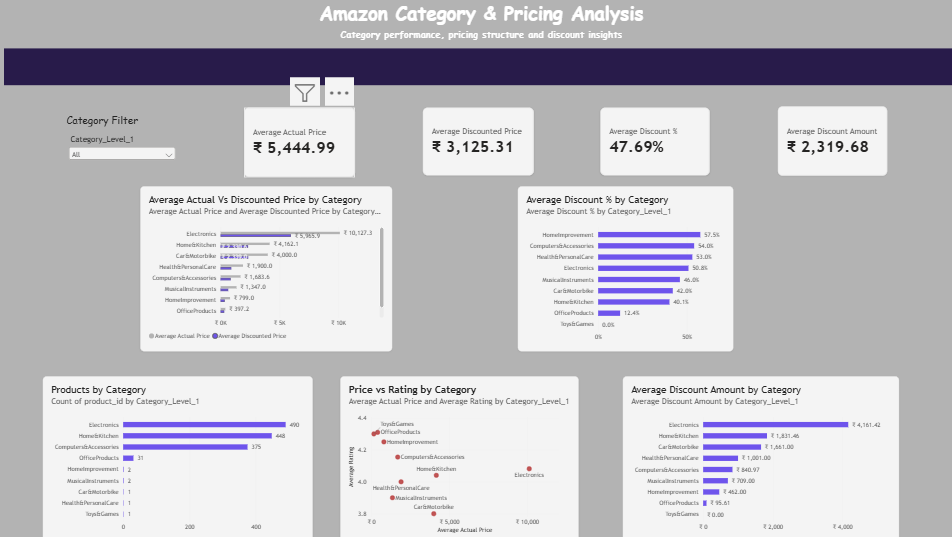

This screenshot's page, from the dashboard's own definition file:
{"tool":"powerbi","page":{"name":"02_Category & Pricing Analysis","canvas":[1920,1080],"ordinal":1},"visuals":[{"type":"shape","title":"Amazon Category & Pricing Analysis","box":[10.4,0,1909.6,170.4],"z":0},{"type":"slicer","title":"Category Filter","fields":{"Values":["Amazon_Raw.Category_Level_1"]},"box":[135.7,226.1,222.6,128.7],"z":1000},{"type":"cardVisual","fields":{"Data":["Amazon_Raw.Average Actual Price"]},"box":[490.4,215.7,222.6,139.1],"z":2000},{"type":"cardVisual","fields":{"Data":["Amazon_Raw.Average Discounted Price"]},"box":[848.7,215.7,222.6,135.7],"z":3000},{"type":"cardVisual","fields":{"Data":["Amazon_Raw.Average Discount %"]},"box":[1203.5,215.7,219.1,135.7],"z":4000},{"type":"cardVisual","fields":{"Data":["Amazon_Raw.Average Discount Amount"]},"box":[1558.3,212.2,219.1,139.1],"z":5000},{"type":"clusteredBarChart","title":"Average Actual Vs Discounted Price by Category","fields":{"Category":["Amazon_Raw.Category_Level_1"],"Y":["Amazon_Raw.Average Actual Price","Amazon_Raw.Average Discounted Price"]},"box":[281.7,372.2,504,330],"z":6000},{"type":"clusteredBarChart","title":"Average Discount % by Category","fields":{"Category":["Amazon_Raw.Category_Level_1"],"Y":["Amazon_Raw.Average Discount %"]},"box":[1036.5,372.2,431.3,330.4],"z":7000},{"type":"clusteredBarChart","title":"Products by Category","fields":{"Category":["Amazon_Raw.Category_Level_1"],"Y":["Count(Amazon_Raw.product_id)"]},"box":[87,751.3,540,330],"z":8000},{"type":"scatterChart","title":"Price vs Rating by Category","fields":{"Category":["Amazon_Raw.Category_Level_1"],"X":["Amazon_Raw.Average Actual Price"],"Y":["Amazon_Raw.Average Rating"]},"box":[681.7,751.3,476.5,330.4],"z":9000},{"type":"clusteredBarChart","title":"Average Discount Amount by Category","fields":{"Category":["Amazon_Raw.Category_Level_1"],"Y":["Amazon_Raw.Average Discount Amount"]},"box":[1248.7,751.3,553,330.4],"z":10000}]}

Visuals, with their boxes in screenshot pixels (x1, y1, x2, y2), scaled from the page's 1920x1080 canvas onto the 952x537 screenshot:
"Amazon Category & Pricing Analysis" shape: 5 0 951 85
"Category Filter" slicer: 67 112 178 176
cardVisual - Amazon_Raw.Average Actual Price: 243 107 354 176
cardVisual - Amazon_Raw.Average Discounted Price: 421 107 531 175
cardVisual - Amazon_Raw.Average Discount %: 597 107 705 175
cardVisual - Amazon_Raw.Average Discount Amount: 773 106 881 175
"Average Actual Vs Discounted Price by Category" clusteredBarChart: 140 185 390 349
"Average Discount % by Category" clusteredBarChart: 514 185 728 349
"Products by Category" clusteredBarChart: 43 374 311 536
"Price vs Rating by Category" scatterChart: 338 374 574 536
"Average Discount Amount by Category" clusteredBarChart: 619 374 893 536
